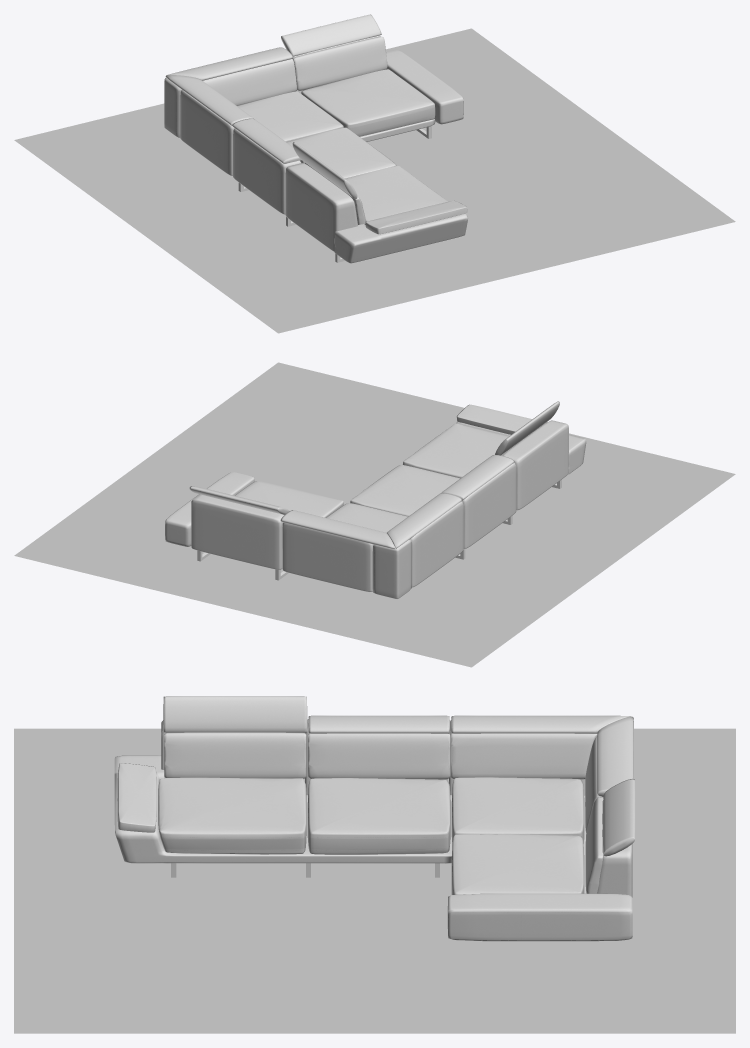
3 views of the same model, one above another, from view 1: azimuth 30°, elevation 25°; view 2: azimuth 150°, elevation 25°; view 3: azimuth 270°, elevation 25° (orthographic). The views are drawn at different scales.
Visible parts, largest first — view 1: pPlane2, Frame_low1; view 2: pPlane2, Frame_low1; view 3: pPlane2, Frame_low1.
Part boxes in pixels (box(x1,y1,x2,y2)): pPlane2: box(14, 28, 735, 333); Frame_low1: box(164, 14, 468, 263); pPlane2: box(14, 362, 735, 667); Frame_low1: box(165, 401, 586, 599); pPlane2: box(14, 728, 735, 1033); Frame_low1: box(114, 696, 635, 941).
Bounding box in the file's own units: 401 × 69.51 × 401.
